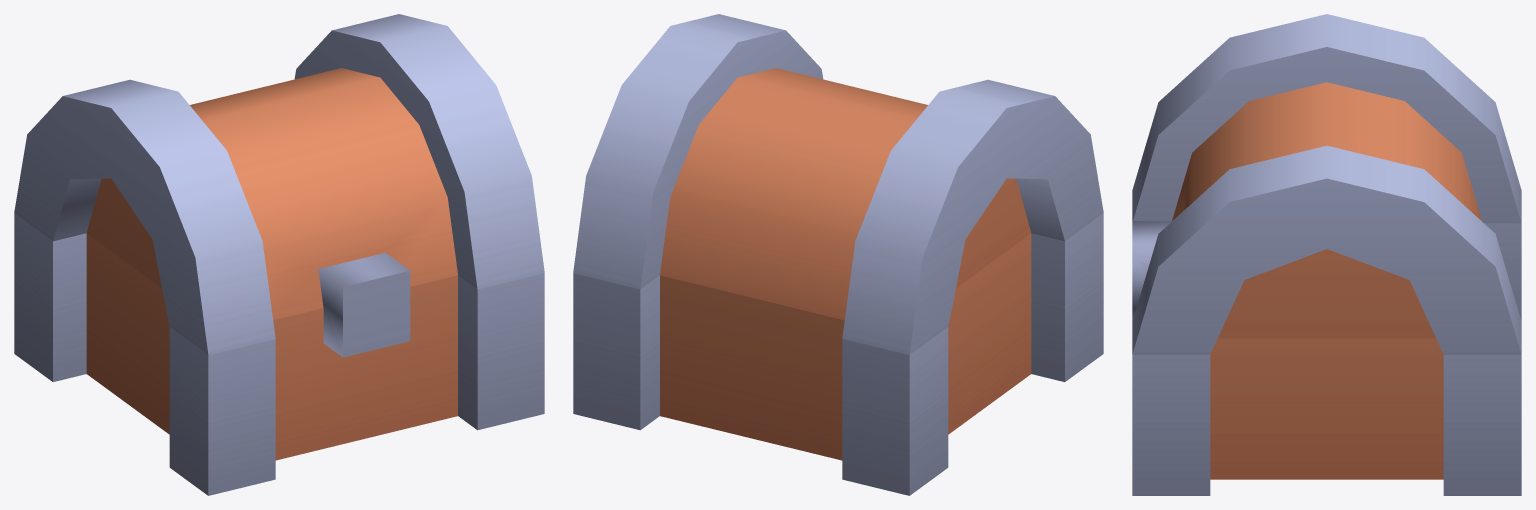
Rendered from chest.gltf.
The picture shows the model from 3 angles, left to right: view 1: azimuth 30°, elevation 25°; view 2: azimuth 150°, elevation 25°; view 3: azimuth 270°, elevation 25°; orthographic projection.
Visible parts, largest first — view 1: lid, chest; view 2: lid, chest; view 3: lid, chest.
Boxes of the visible parts, bbox=[...] form: lid: bbox=[14, 14, 544, 357]; chest: bbox=[14, 213, 544, 495]; lid: bbox=[573, 14, 1103, 354]; chest: bbox=[573, 213, 1103, 495]; lid: bbox=[1132, 14, 1521, 354]; chest: bbox=[1132, 223, 1521, 495].
Bounding box in the file's own units: 1.27 × 1.15 × 1.27.
Materials: 1 (1 with a texture image).
